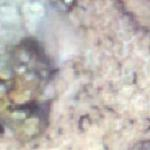alive: (3, 3, 146, 147)
